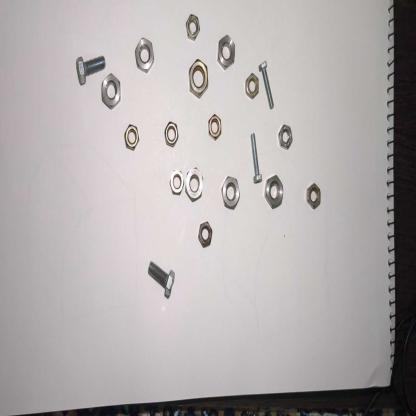Bolts: (146, 260, 178, 304), (255, 59, 279, 112), (72, 53, 109, 87), (248, 129, 262, 189)
NUTS: (186, 59, 212, 100), (100, 71, 122, 111), (216, 31, 236, 73), (183, 165, 205, 203), (263, 173, 286, 209), (134, 36, 155, 74), (220, 174, 241, 211), (124, 123, 141, 154), (168, 166, 185, 197), (207, 111, 223, 143), (305, 181, 322, 211), (163, 118, 181, 146), (197, 219, 214, 248), (245, 71, 259, 102), (278, 123, 293, 151), (186, 12, 200, 38)
